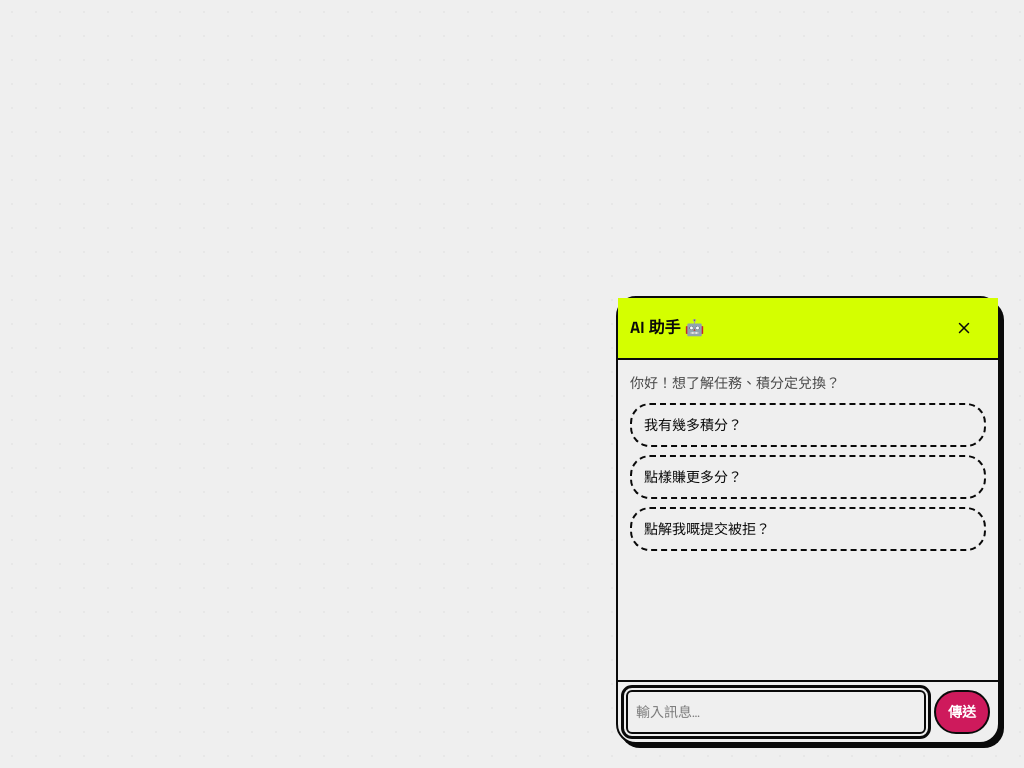
it: AssistantPanel › accepts a saved result for the current request
Step 1. Type "Current question" into the field with placeholder "輸入訊息…" → coordinates (776, 712), box [626,690,926,734]
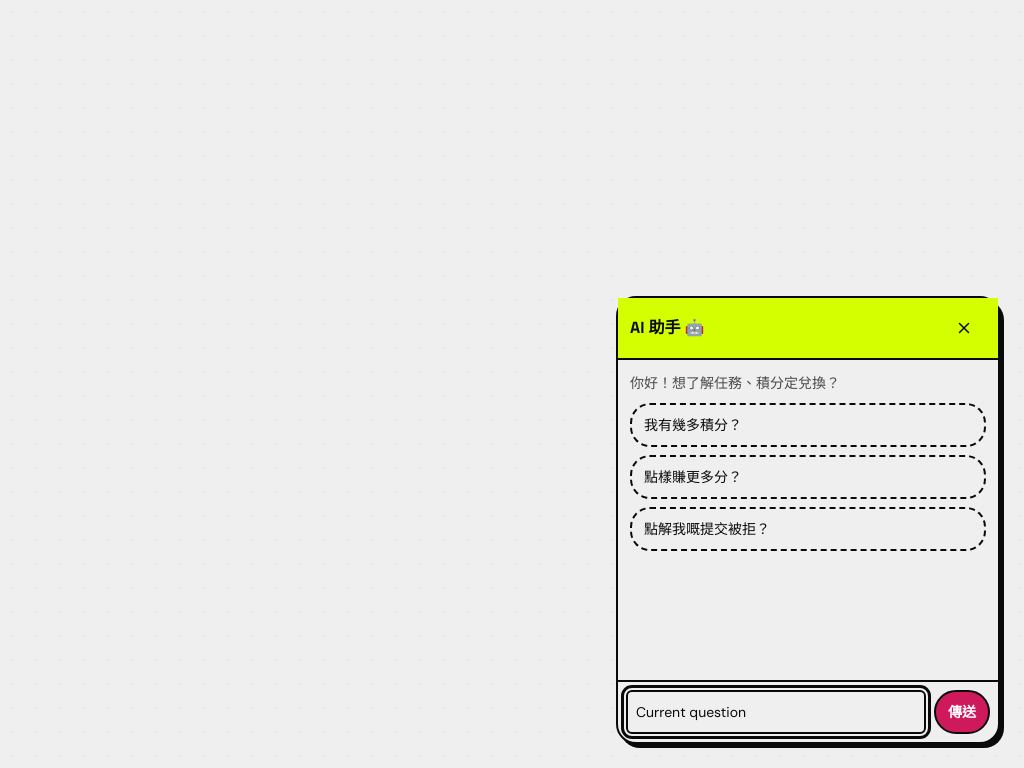
Step 2. Click the button "傳送" → coordinates (962, 712), box [934,690,990,734]
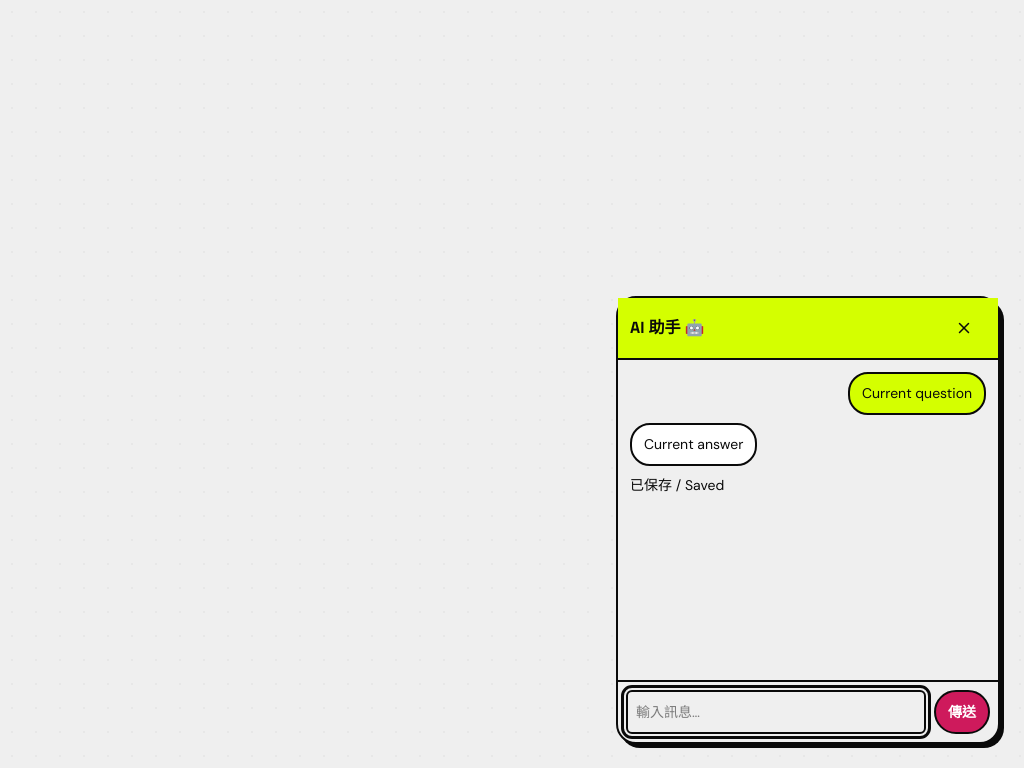
Now the text "Current answer" is shown, box [644,433,743,456]
Now the field with placeholder "輸入訊息…" is empty, box [626,690,926,734]
Now the message reads "已保存 / Saved", box [630,476,724,494]
